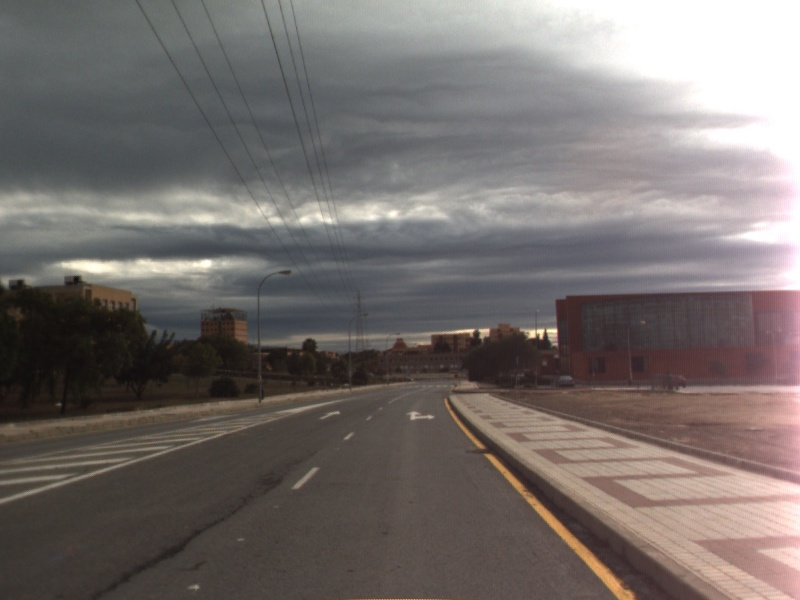STRAIGHT: (316, 408, 343, 421)
STRAIGHT_RIGHT: (404, 408, 438, 422)
